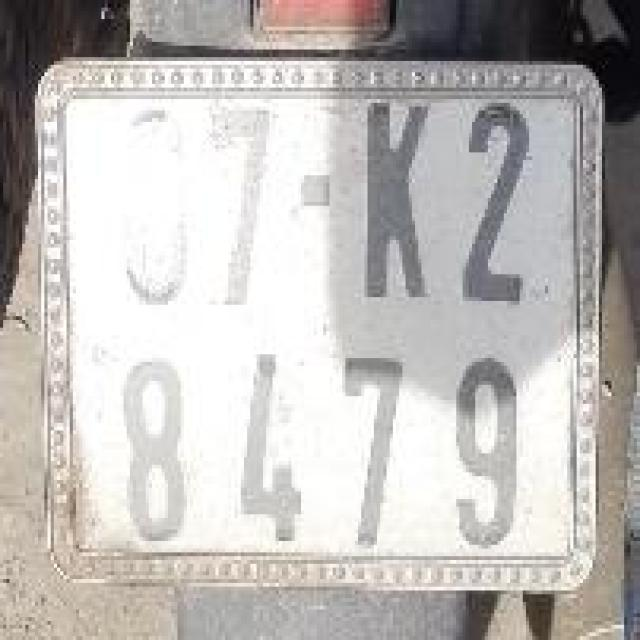2: (450, 95, 548, 320)
4: (226, 333, 318, 554)
6: (106, 97, 195, 314)
7: (328, 343, 407, 556), (206, 86, 272, 314)
8: (116, 336, 194, 552)
9: (440, 344, 542, 570)
K: (356, 86, 439, 318)
